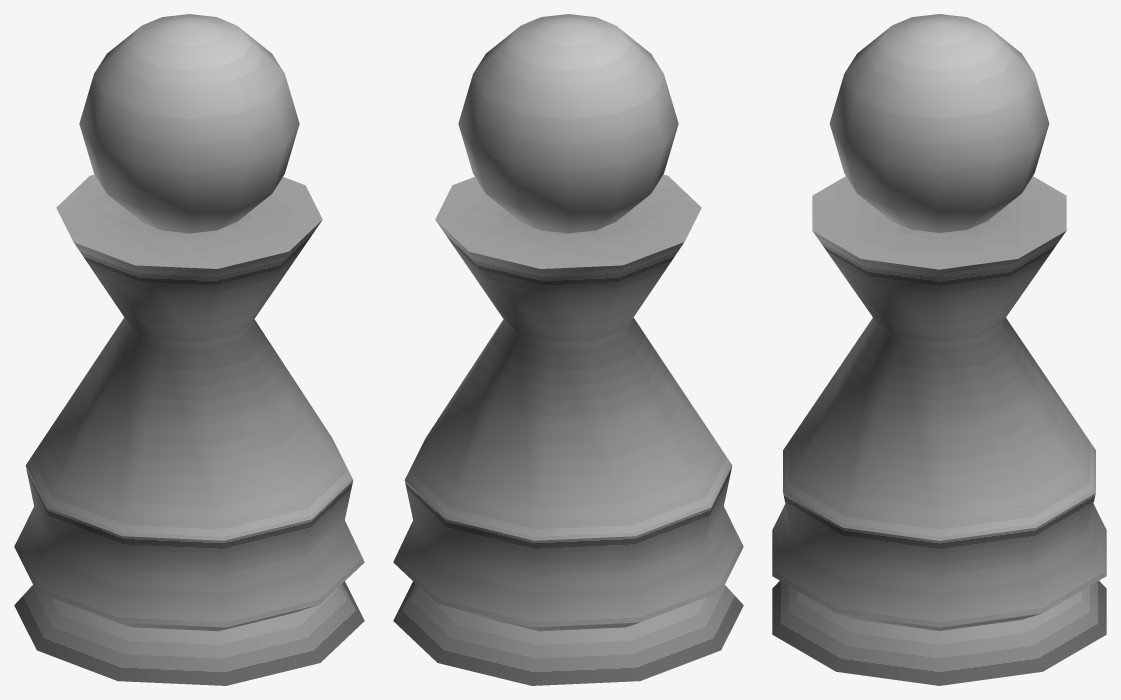
The model's file is rmk_chs_pawn_mtl.dae.
3 renders of one model, left to right at view 1: azimuth 30°, elevation 25°; view 2: azimuth 150°, elevation 25°; view 3: azimuth 270°, elevation 25°, orthographic.
Parts seen in each view (by area): view 1: rmk_chs_pawn_mtl; view 2: rmk_chs_pawn_mtl; view 3: rmk_chs_pawn_mtl.
Part boxes in pixels (box(x1,y1,x2,y2)): rmk_chs_pawn_mtl: box(14, 14, 364, 685); rmk_chs_pawn_mtl: box(393, 14, 743, 685); rmk_chs_pawn_mtl: box(772, 14, 1106, 685).
Bounding box in the file's own units: 25.6 × 47.2 × 24.35.
1 material, 1 textured.
